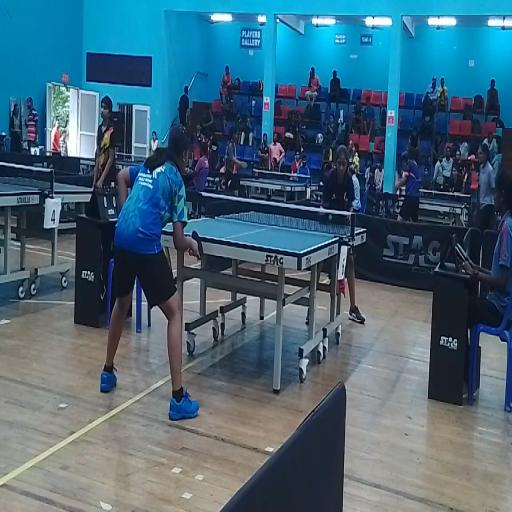ball: (328, 215, 332, 222)
